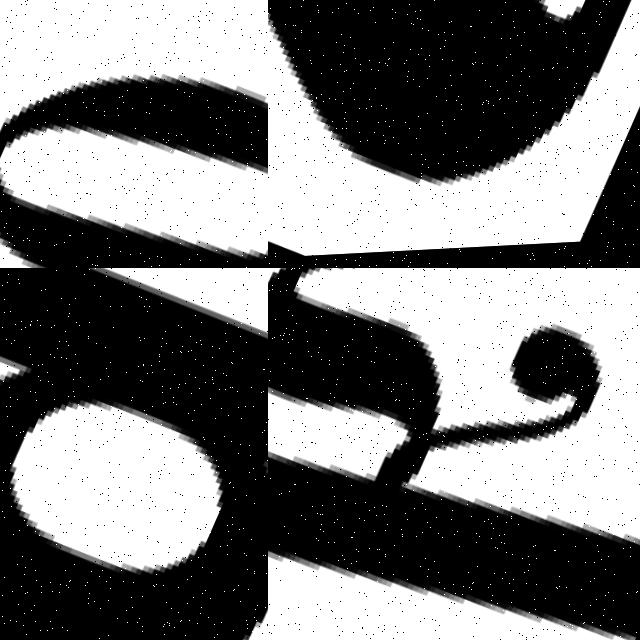B: (0, 77, 268, 268)
K: (268, 268, 640, 640)
Q: (0, 268, 268, 640)
S: (268, 0, 640, 268)
